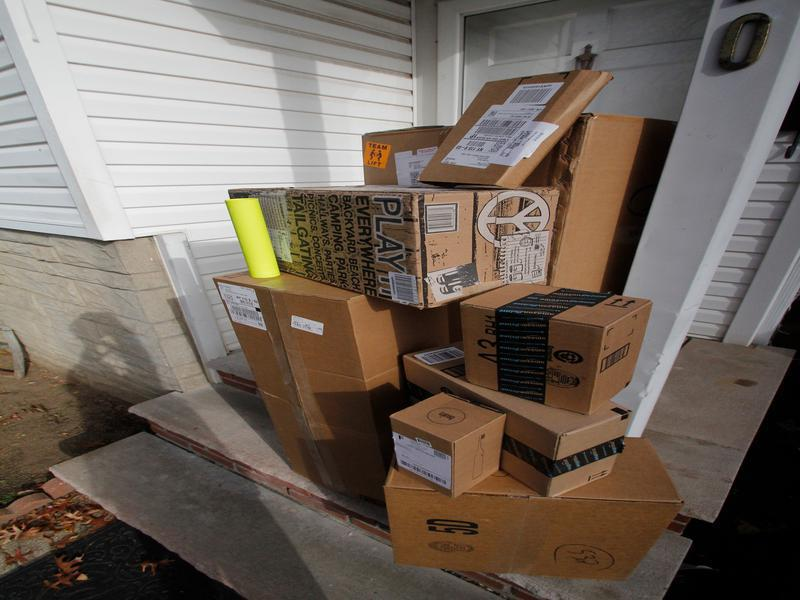package: (207, 276, 407, 512), (284, 179, 567, 316), (374, 484, 689, 583), (453, 276, 661, 420), (415, 60, 624, 197), (381, 385, 511, 501)
